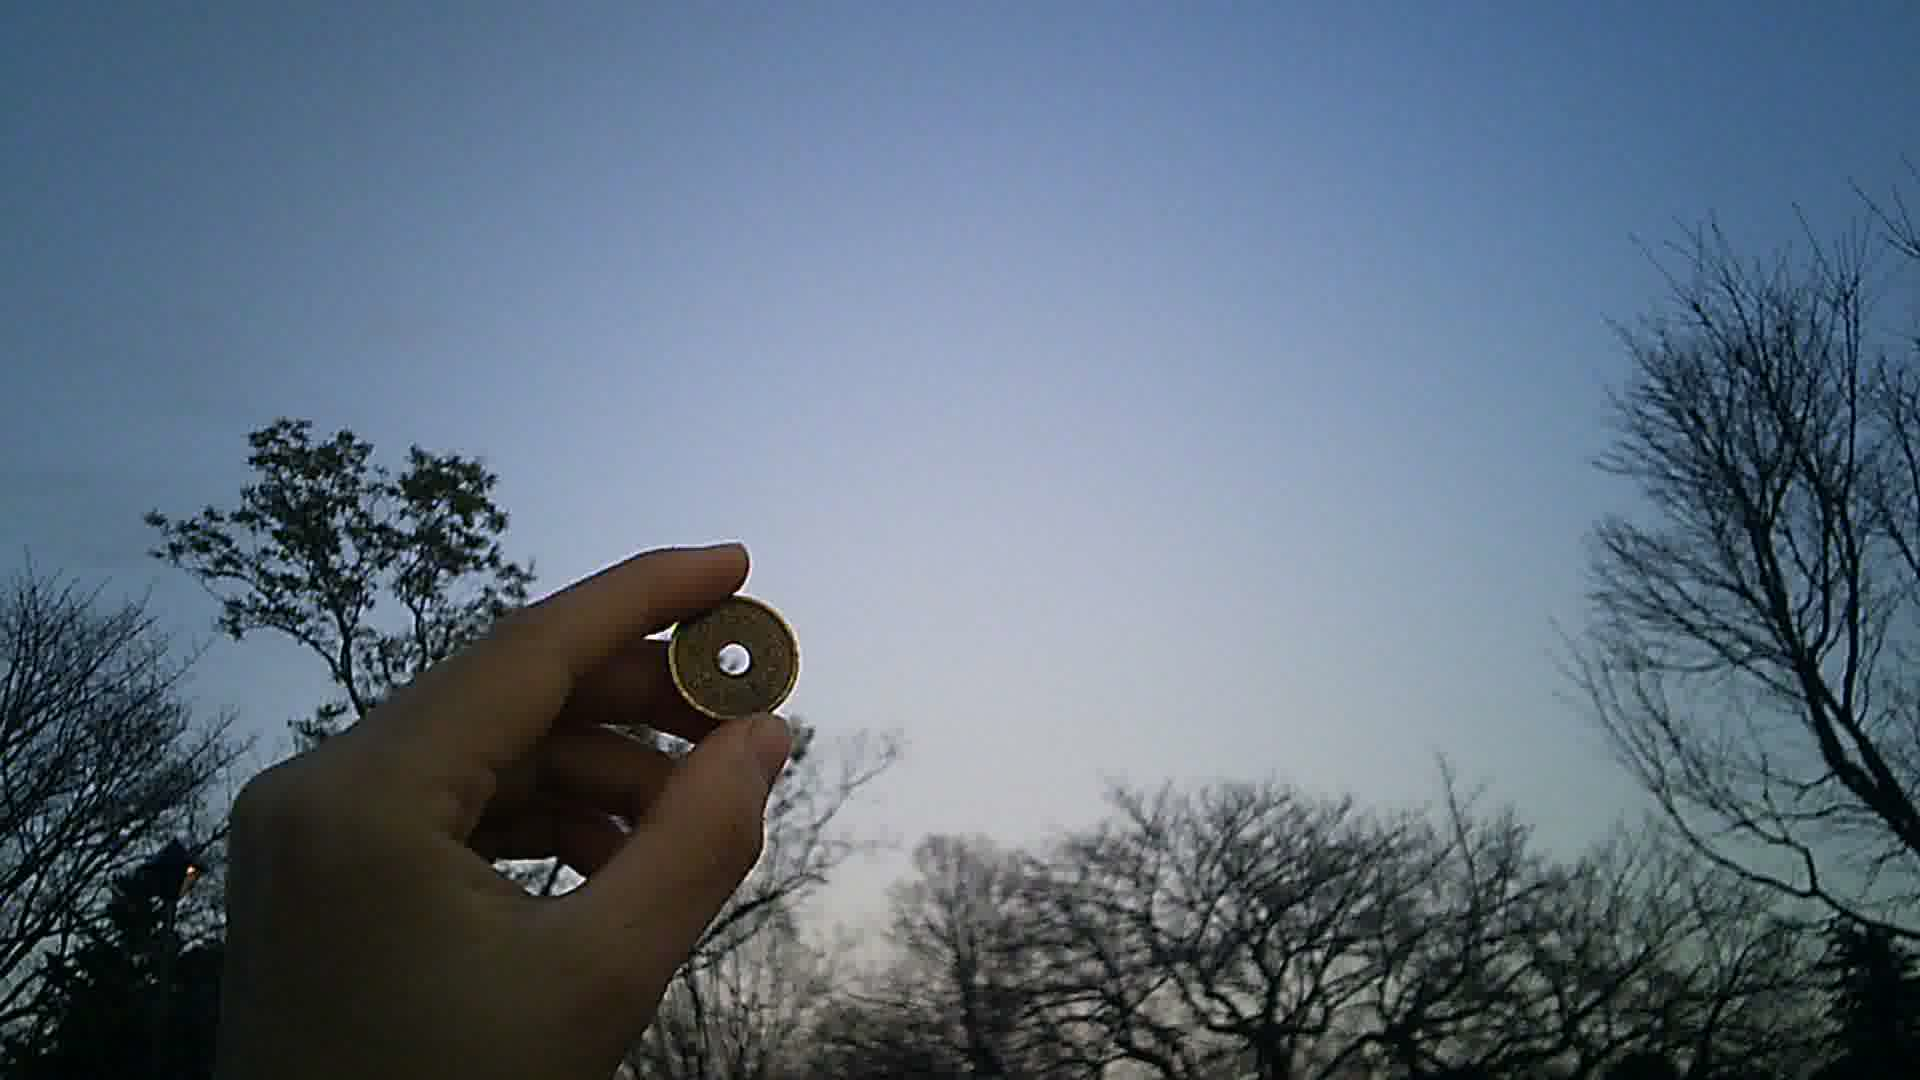5 Yen: (666, 589, 796, 725)
